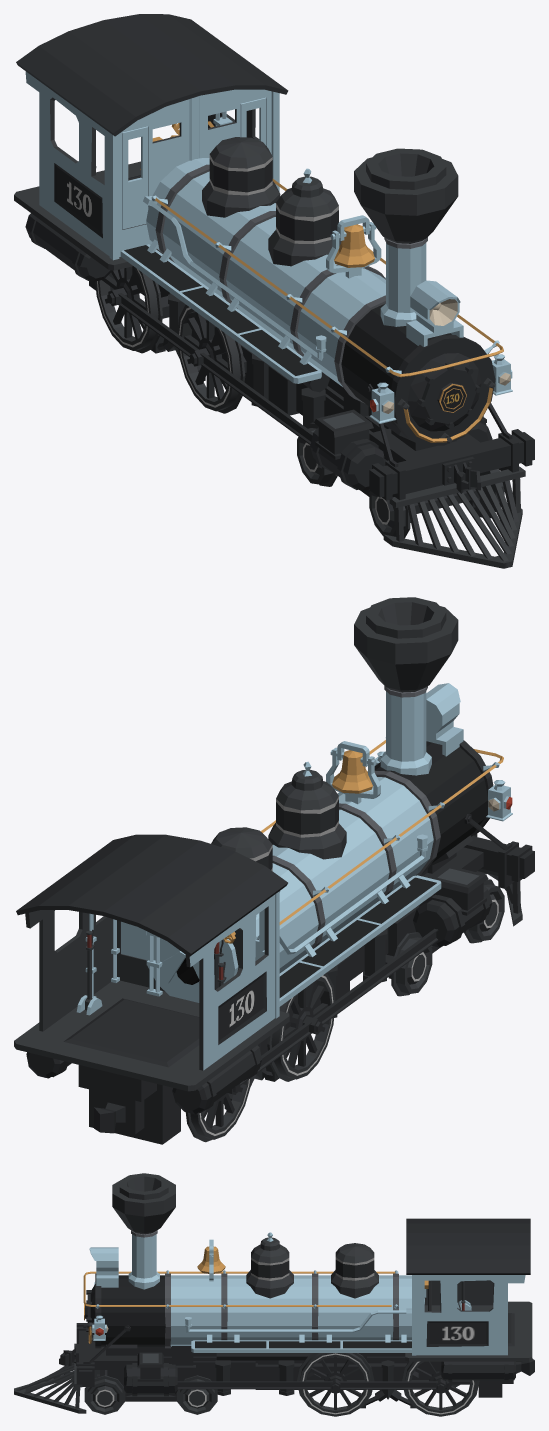
Rendered from train2.fbx.
The picture shows the model from 3 angles, top to bottom: view 1: azimuth 30°, elevation 25°; view 2: azimuth 150°, elevation 25°; view 3: azimuth 270°, elevation 25°; orthographic projection. The views are drawn at different scales.
Parts seen in each view (by area): view 1: SM_Veh_Train_01, SM_Veh_Train_01_Alt_Smokestack, SM_Veh_Train_01_Bell; view 2: SM_Veh_Train_01, SM_Veh_Train_01_Alt_Smokestack, SM_Veh_Train_01_Bell; view 3: SM_Veh_Train_01, SM_Veh_Train_01_Alt_Smokestack, SM_Veh_Train_01_Bell.
Boxes of the visible parts, x1,y1,x2,y2 form: SM_Veh_Train_01: [14, 14, 534, 568]; SM_Veh_Train_01_Alt_Smokestack: [354, 148, 458, 243]; SM_Veh_Train_01_Bell: [334, 224, 374, 267]; SM_Veh_Train_01: [14, 683, 534, 1144]; SM_Veh_Train_01_Alt_Smokestack: [354, 597, 458, 692]; SM_Veh_Train_01_Bell: [332, 750, 372, 793]; SM_Veh_Train_01: [14, 1218, 534, 1416]; SM_Veh_Train_01_Alt_Smokestack: [112, 1173, 175, 1234]; SM_Veh_Train_01_Bell: [197, 1246, 225, 1273].
Size of the model in its own units: 328 by 580 by 1249.
1 material, 1 textured.
